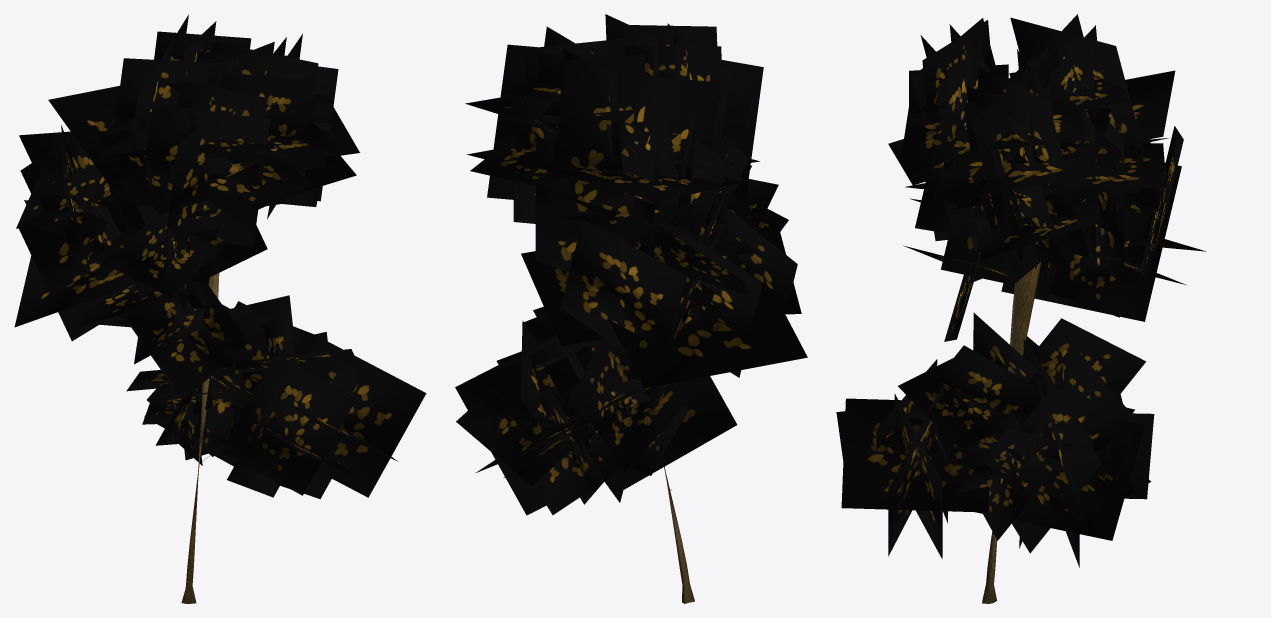
File: env_tree_dry_young_01.glb
3 views of the same model, side by side, from view 1: azimuth 30°, elevation 25°; view 2: azimuth 150°, elevation 25°; view 3: azimuth 270°, elevation 25° (orthographic). The views are drawn at different scales.
Visible parts, largest first — view 1: tree_dry_young_01; view 2: tree_dry_young_01; view 3: tree_dry_young_01.
Part boxes in pixels (x1,y1,x2,y2): tree_dry_young_01: (14,14,426,603); tree_dry_young_01: (455,14,807,603); tree_dry_young_01: (836,14,1206,603).
Size of the model in its own units: 1.85 by 2.79 by 1.81.
Materials: 2 (2 with a texture image).
